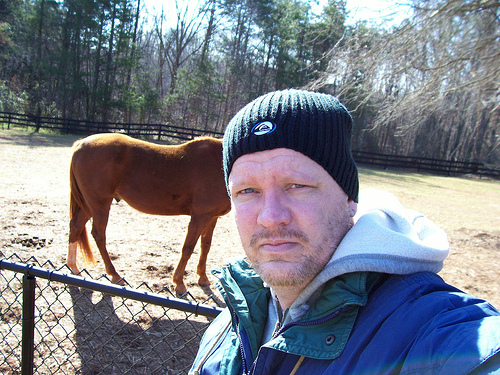without_mask: (225, 147, 356, 281)
